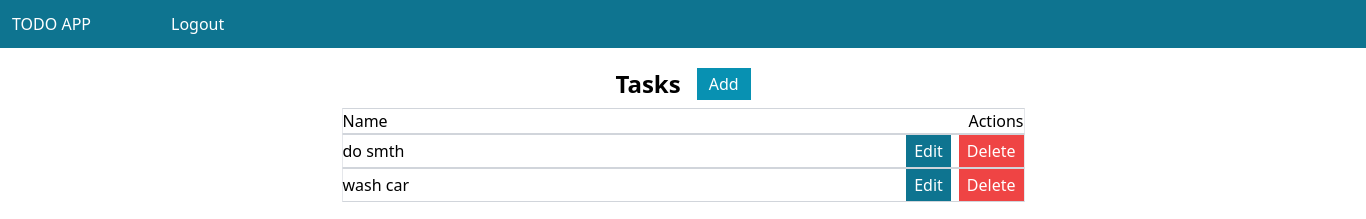
Scenario: deleting task
Expected: the text "wash car" is shown, [342,173,409,197]
Expected: the text "do smth" is shown, [342,139,404,163]
Click the button "Delete" in the row of "do smth".
click(991, 151)  # box [959,135,1024,167]
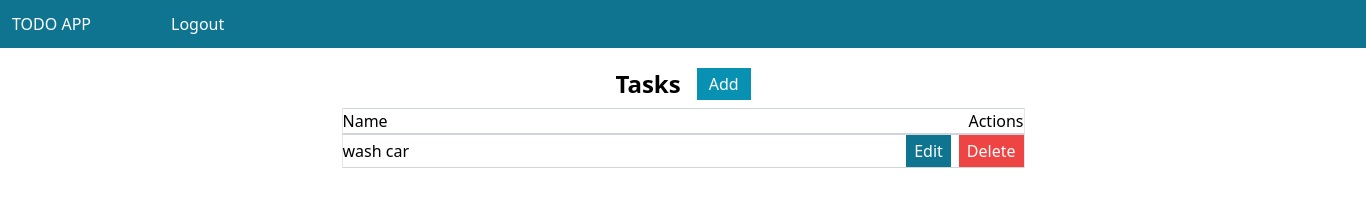
Expected: the text "wash car" is shown, [342,139,409,163]
Expected: the text "do smth" is gone
